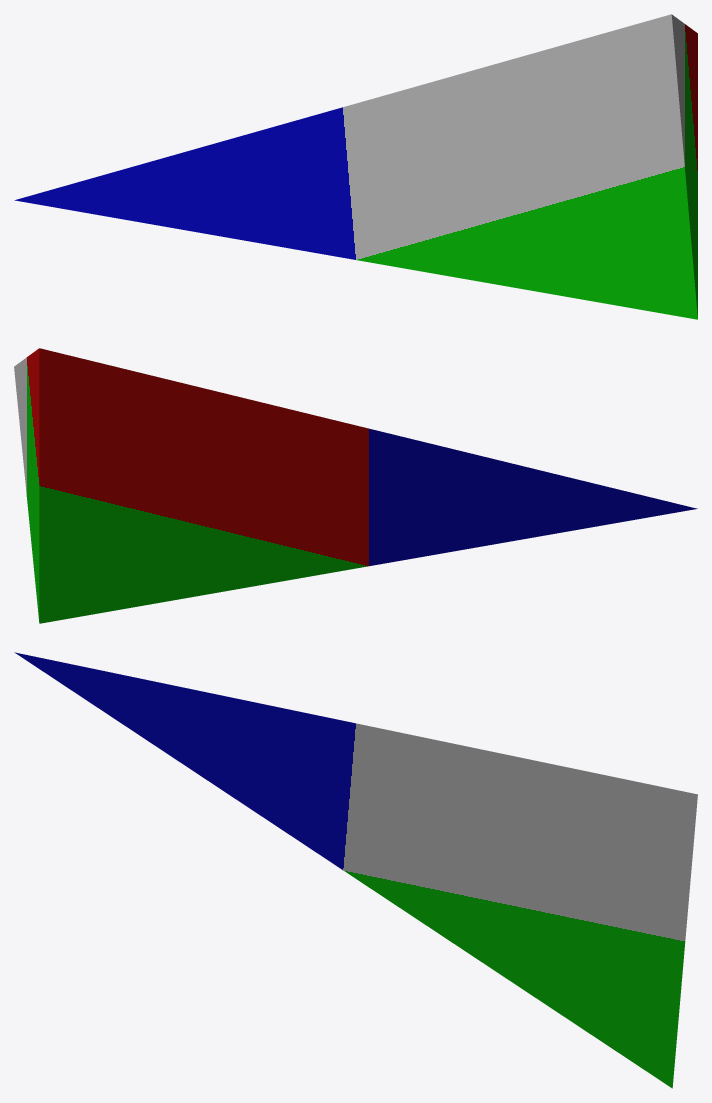
The model's file is nested-negative-nodes-prepared.glb.
3 renders of one model, top to bottom at view 1: azimuth 30°, elevation 25°; view 2: azimuth 150°, elevation 25°; view 3: azimuth 330°, elevation 25°, orthographic. The views are drawn at different scales.
Visible parts, largest first — view 1: Orca print placement; view 2: Orca print placement; view 3: Orca print placement.
Boxes of the visible parts, bbox=[...] form: Orca print placement: bbox=[14, 14, 697, 319]; Orca print placement: bbox=[14, 348, 697, 623]; Orca print placement: bbox=[14, 652, 697, 1088].
Bounding box in the file's own units: 0.1 × 0.04 × 0.00667.
Materials: 1 (1 with a texture image).
